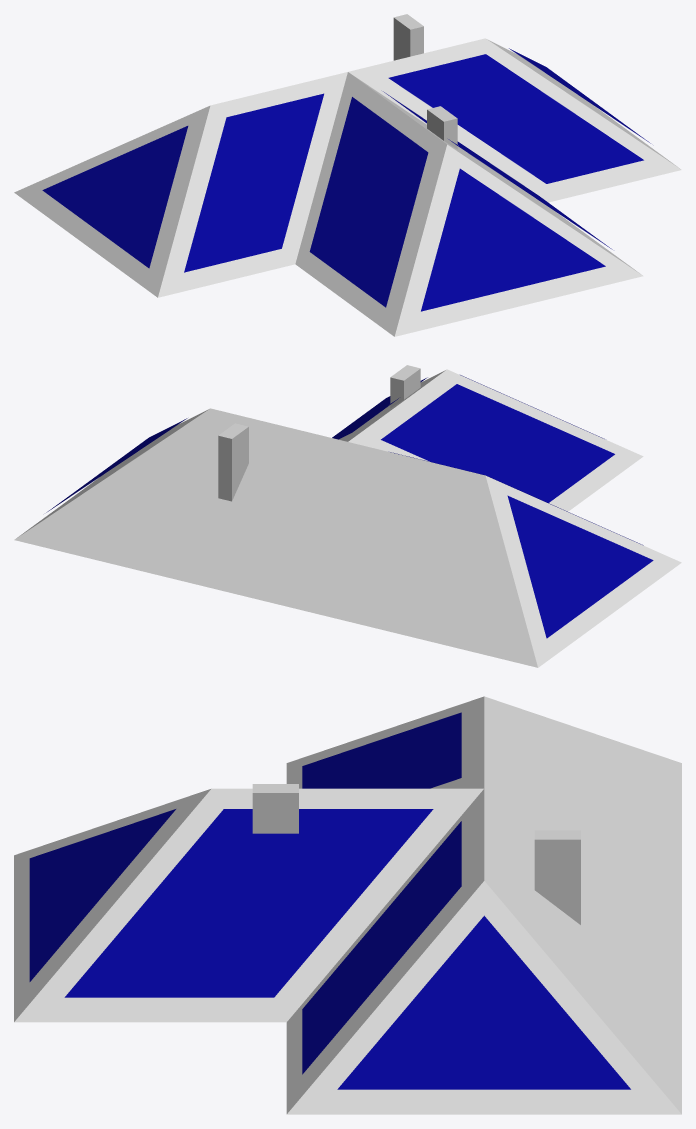
Rendered from Roof8.dae.
3 renders of one model, top to bottom at view 1: azimuth 30°, elevation 25°; view 2: azimuth 150°, elevation 25°; view 3: azimuth 270°, elevation 25°, orthographic. The views are drawn at different scales.
Visible parts, largest first — view 1: SketchUp (×10); view 2: SketchUp (×7); view 3: SketchUp (×8).
Part boxes in pixels (x1,y1,x2,y2): SketchUp (×10): (14, 14, 681, 336); SketchUp (×7): (14, 365, 681, 667); SketchUp (×8): (14, 696, 681, 1114).
Bounding box in the file's own units: 1201 × 965 × 259.
